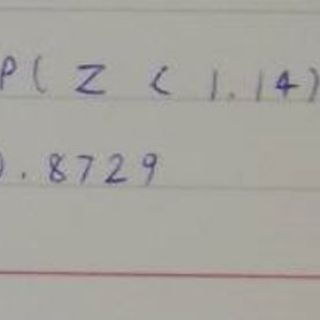.: (16, 169, 30, 181), (227, 89, 239, 100)
1: (209, 65, 221, 101), (254, 67, 264, 102)
2: (103, 152, 129, 184)
4: (273, 69, 300, 100)
7: (75, 152, 94, 185)
8: (47, 152, 68, 184)
9: (141, 151, 159, 185)
